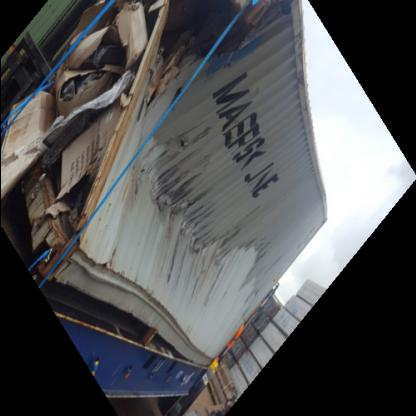Damage: (0, 1, 326, 285)
